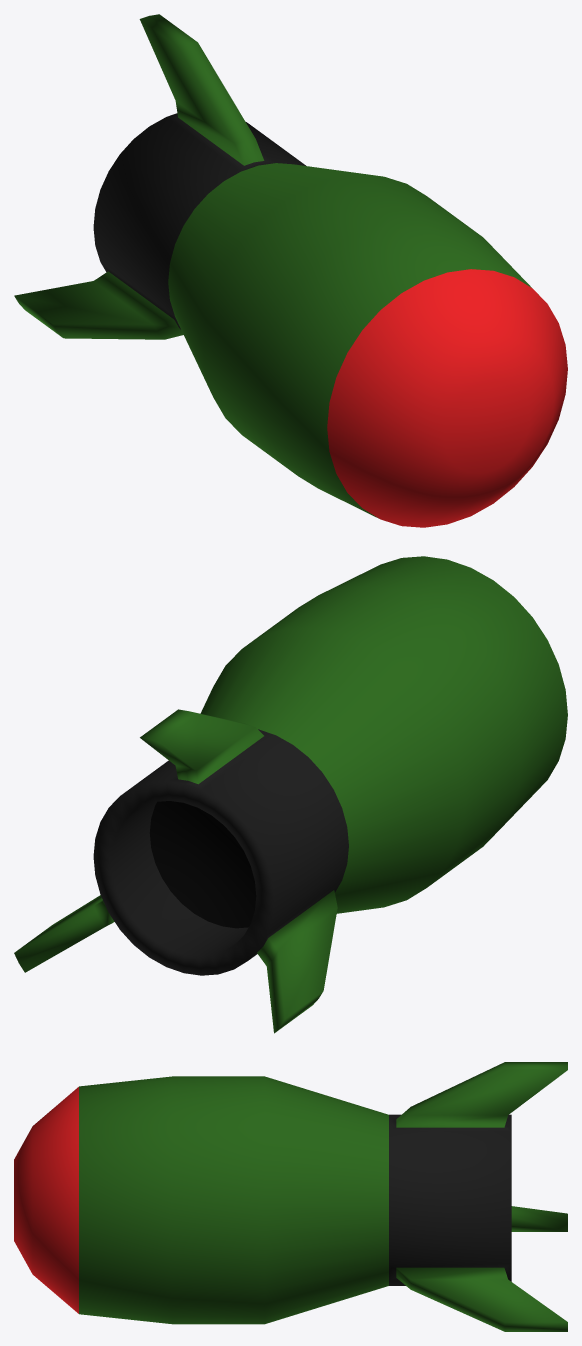
The model's file is tsar-bomb.fbx.
The picture shows the model from 3 angles, top to bottom: view 1: azimuth 30°, elevation 25°; view 2: azimuth 150°, elevation 25°; view 3: azimuth 270°, elevation 25°; orthographic projection. The views are drawn at different scales.
Parts seen in each view (by area): view 1: Cylinder; view 2: Cylinder; view 3: Cylinder.
Part boxes in pixels (x1,y1,x2,y2): Cylinder: (14,14,567,527); Cylinder: (14,556,567,1033); Cylinder: (14,1062,567,1331).
Bounding box in the file's own units: 414 × 440 × 894.
